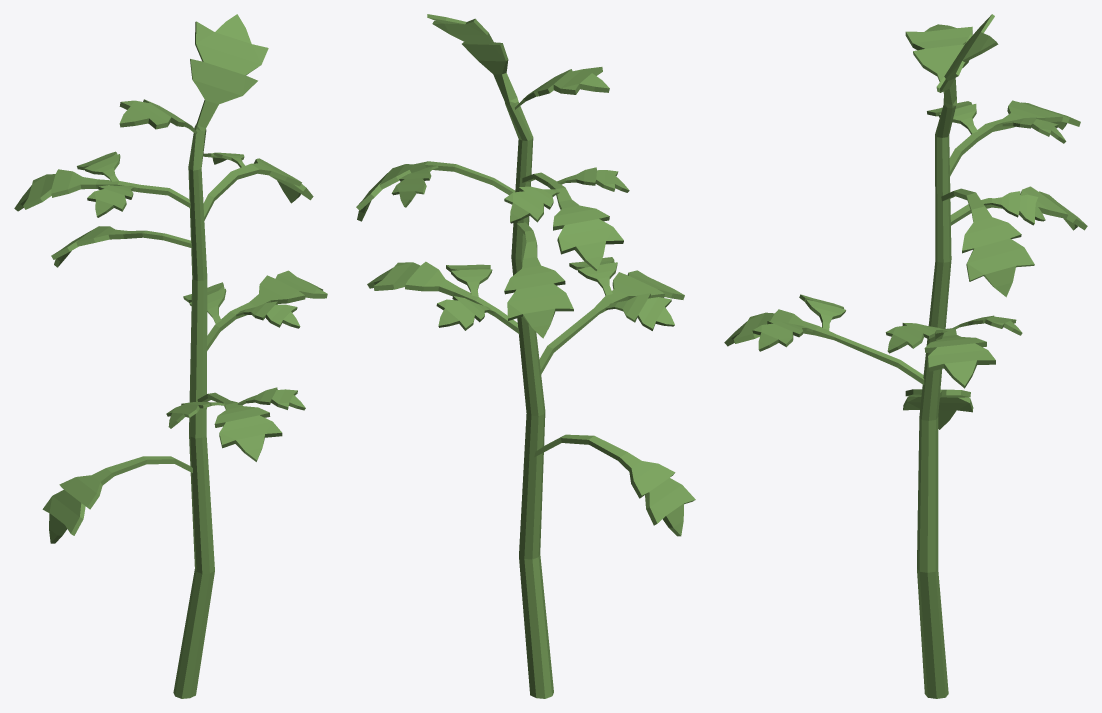
File: Tomato_Harvested.glb
The picture shows the model from 3 angles, left to right: view 1: azimuth 30°, elevation 25°; view 2: azimuth 150°, elevation 25°; view 3: azimuth 270°, elevation 25°; orthographic projection. The views are drawn at different scales.
Visible parts, largest first — view 1: Tomato_Harvested; view 2: Tomato_Harvested; view 3: Tomato_Harvested.
Part boxes in pixels (x1=…): Tomato_Harvested: x1=14, y1=14, x2=327, y2=698; Tomato_Harvested: x1=356, y1=14, x2=695, y2=698; Tomato_Harvested: x1=724, y1=14, x2=1087, y2=698.
Bounding box in the file's own units: 0.7932 × 1.72 × 0.81.
